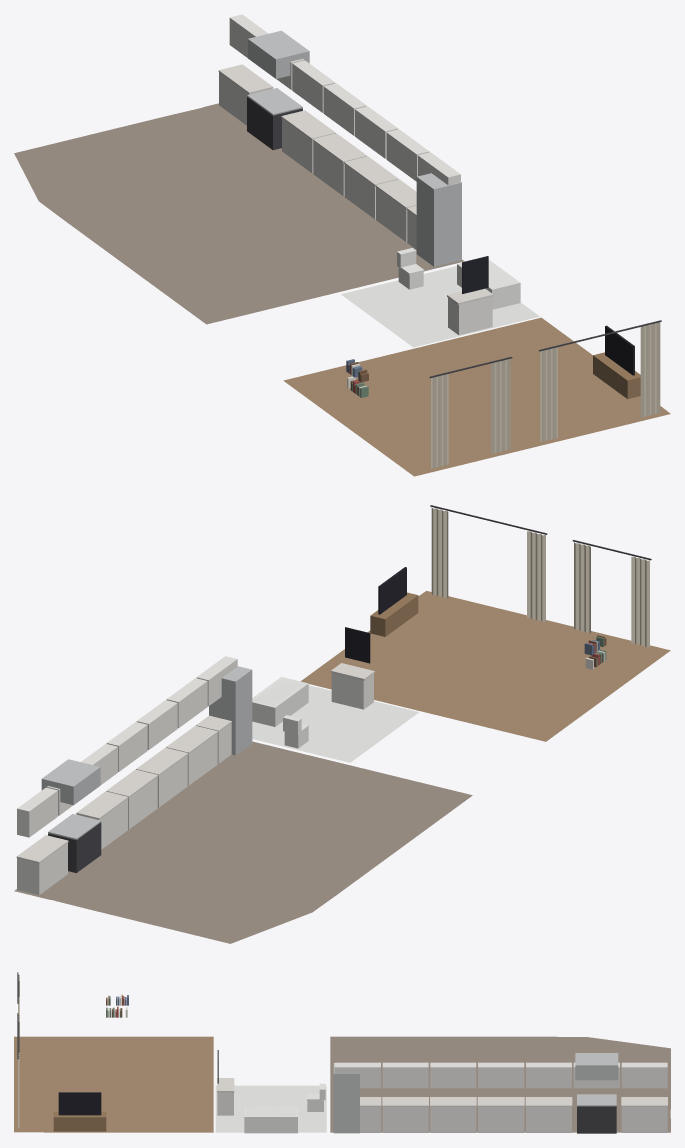
File: fine-s1.glb
3 renders of one model, top to bottom at view 1: azimuth 30°, elevation 25°; view 2: azimuth 150°, elevation 25°; view 3: azimuth 270°, elevation 25°, orthographic. The views are drawn at different scales.
Visible parts, largest first — view 1: soft-s1, range.000, fridge.000, vanity.000, tv-console.001, counter-run.002, counter-run.003, counter-run.001, counter-run.000, counter-run.004, kitchen-upper.002, kitchen-upper.003 (+6 smaller); view 2: soft-s1, range.000, vanity.000, fridge.000, counter-run.000, tv-console.001, bathtub.000, counter-run.003, counter-run.004, counter-run.002, counter-run.001, kitchen-upper.000 (+7 smaller); view 3: soft-s1, range.000, tv-console.001, counter-run.002, counter-run.000, counter-run.003, counter-run.004, counter-run.001, fridge.000, bathtub.000, kitchen-upper.000, kitchen-upper.003 (+8 smaller).
Part boxes in pixels (left/top/right/bottom): soft-s1: left=14, top=103, right=670, bottom=476; range.000: left=247, top=30, right=309, bottom=150; fridge.000: left=416, top=173, right=461, bottom=266; vanity.000: left=447, top=256, right=493, bottom=335; tv-console.001: left=593, top=325, right=640, bottom=398; counter-run.002: left=312, top=133, right=366, bottom=196; counter-run.003: left=344, top=156, right=398, bottom=219; counter-run.001: left=281, top=110, right=335, bottom=173; counter-run.000: left=218, top=64, right=273, bottom=125; counter-run.004: left=375, top=179, right=416, bottom=242; kitchen-upper.002: left=292, top=60, right=335, bottom=112; kitchen-upper.003: left=323, top=83, right=366, bottom=135; soft-s1: left=14, top=505, right=670, bottom=943; range.000: left=41, top=759, right=101, bottom=872; vanity.000: left=330, top=627, right=374, bottom=709; fridge.000: left=209, top=666, right=252, bottom=755; counter-run.000: left=16, top=835, right=68, bottom=894; tv-console.001: left=370, top=567, right=418, bottom=636; bathtub.000: left=252, top=677, right=308, bottom=726; counter-run.003: left=136, top=747, right=188, bottom=807; counter-run.004: left=166, top=725, right=218, bottom=785; counter-run.002: left=106, top=769, right=158, bottom=829; counter-run.001: left=76, top=791, right=128, bottom=849; kitchen-upper.000: left=17, top=787, right=57, bottom=837; soft-s1: left=14, top=972, right=670, bottom=1132; range.000: left=575, top=1053, right=618, bottom=1133; tv-console.001: left=53, top=1092, right=106, bottom=1131; counter-run.002: left=477, top=1097, right=524, bottom=1132; counter-run.000: left=621, top=1097, right=667, bottom=1132; counter-run.003: left=430, top=1097, right=476, bottom=1132; counter-run.004: left=382, top=1097, right=428, bottom=1132; counter-run.001: left=525, top=1097, right=572, bottom=1132; fridge.000: left=333, top=1063, right=359, bottom=1133; bathtub.000: left=244, top=1106, right=297, bottom=1133; kitchen-upper.000: left=621, top=1062, right=667, bottom=1088; kitchen-upper.003: left=478, top=1062, right=524, bottom=1088.
Size of the model in its own units: 7.04 by 2.41 by 19.93.
